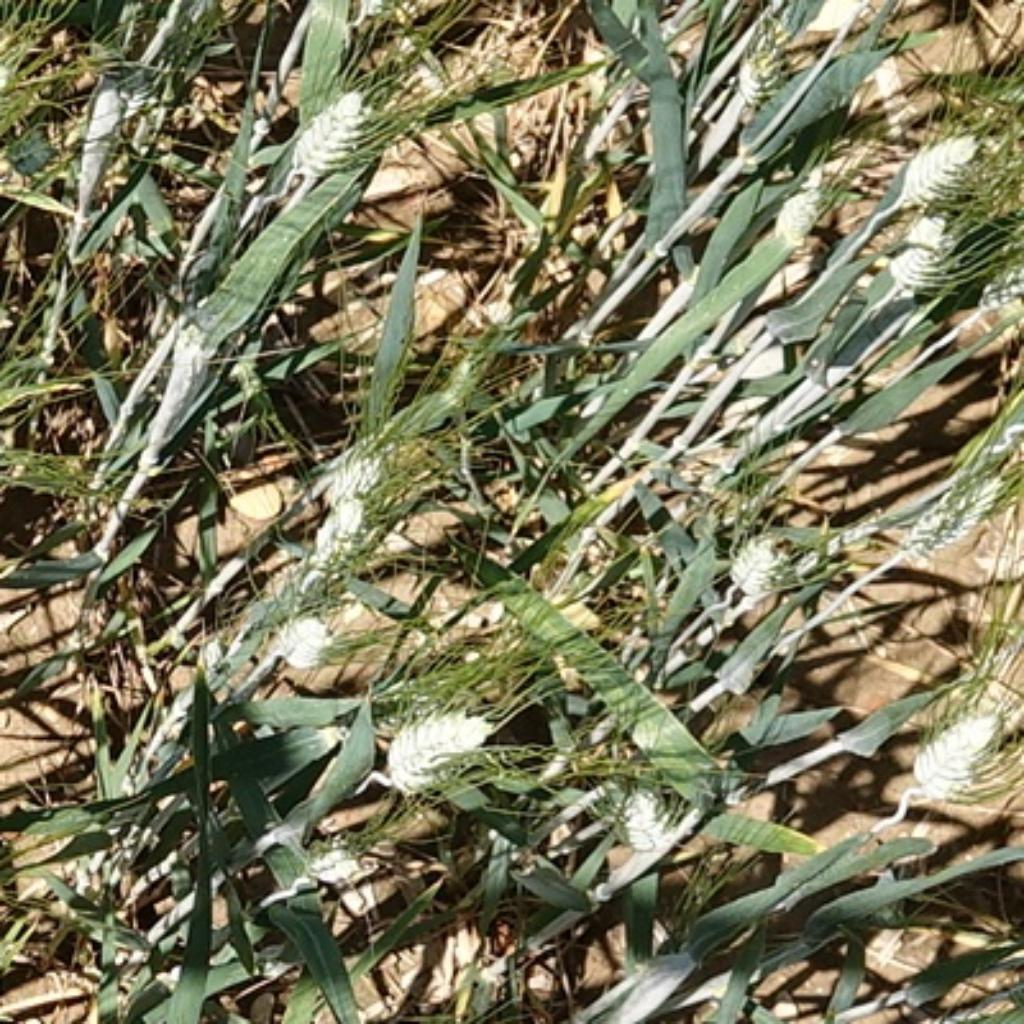0-0: (906, 657, 1024, 808), (381, 691, 514, 801), (65, 52, 175, 166), (904, 465, 1015, 568), (288, 77, 387, 190), (293, 484, 393, 586), (600, 769, 700, 866), (307, 424, 410, 509), (867, 197, 960, 291), (723, 13, 798, 122), (888, 132, 990, 202), (287, 825, 389, 895), (761, 178, 833, 262), (0, 115, 68, 203), (720, 532, 797, 601), (268, 606, 340, 675)
